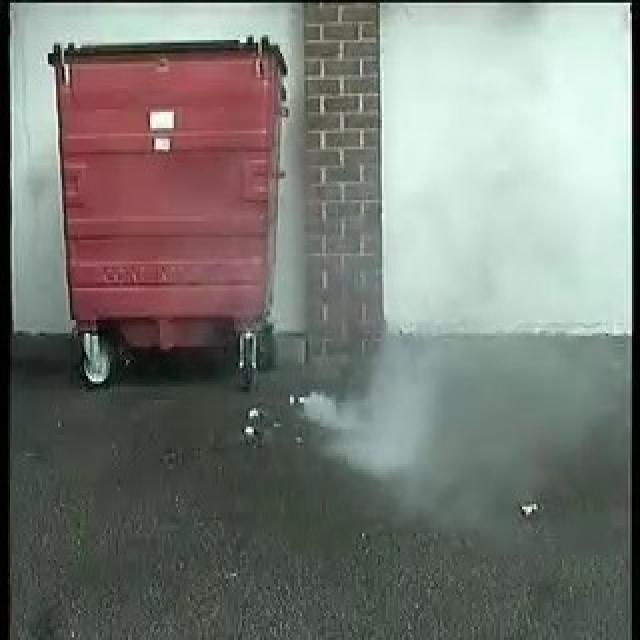smoke: (296, 348, 426, 466)
